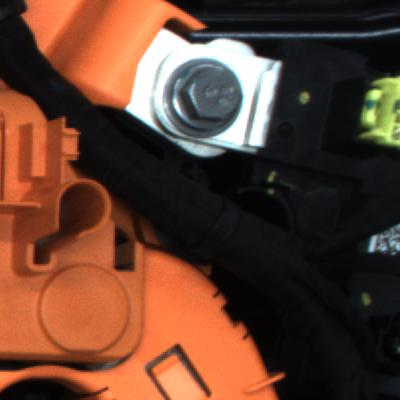nut_b: (163, 58, 248, 136)
